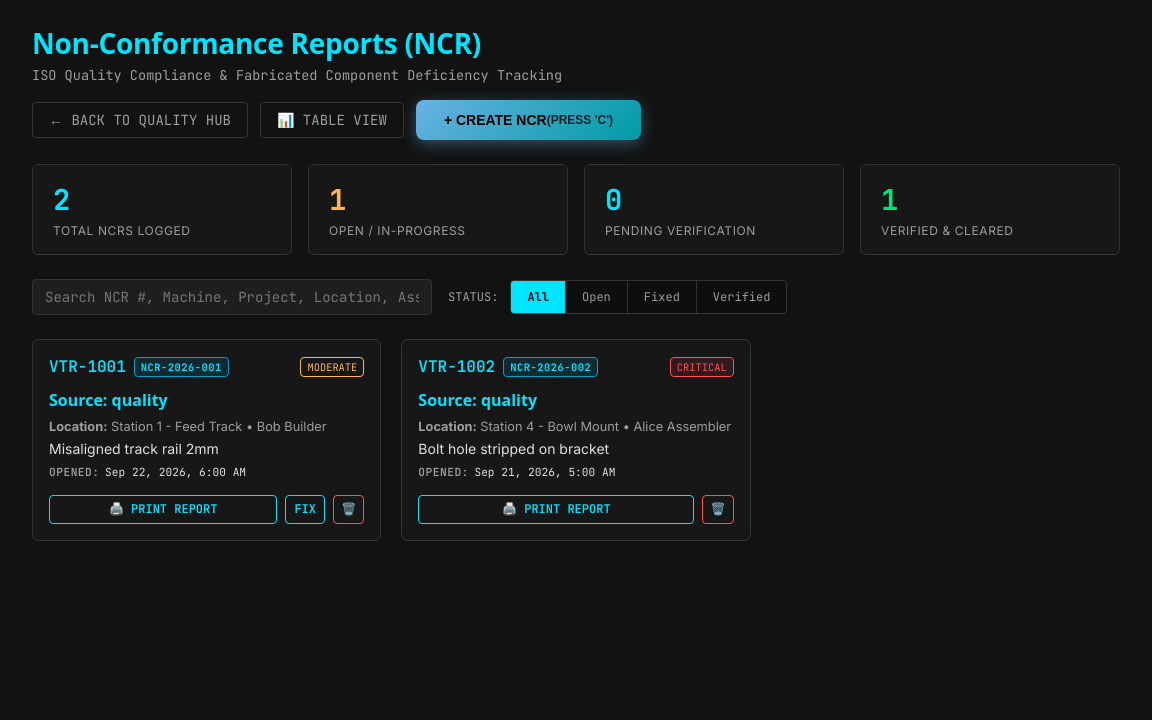
Scenario: NCRTrackerPage › opens NCR creation modal when button is clicked
Click the button "+ CREATE NCR (Press 'C')" at {"x": 528, "y": 120}, box [416,100,641,140]
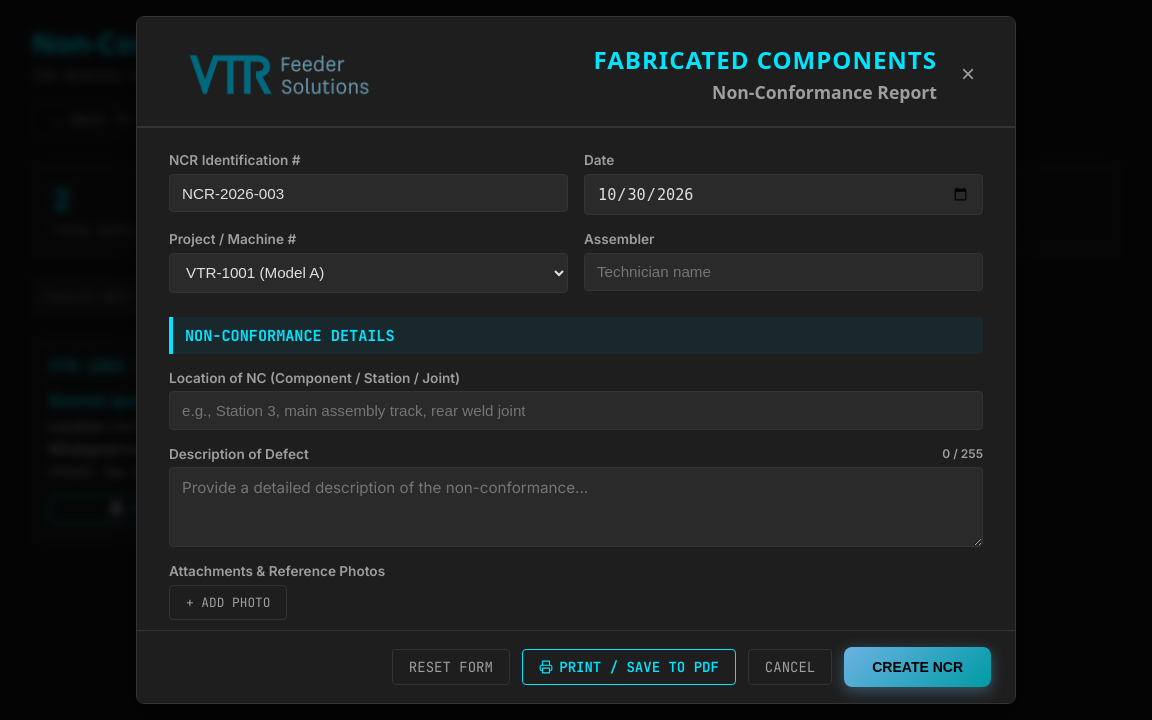
Expected: the heading "Fabricated Components" is shown, [594,43,937,76]
Expected: the field labelled "NCR Identification #" is shown, [169,174,568,212]
